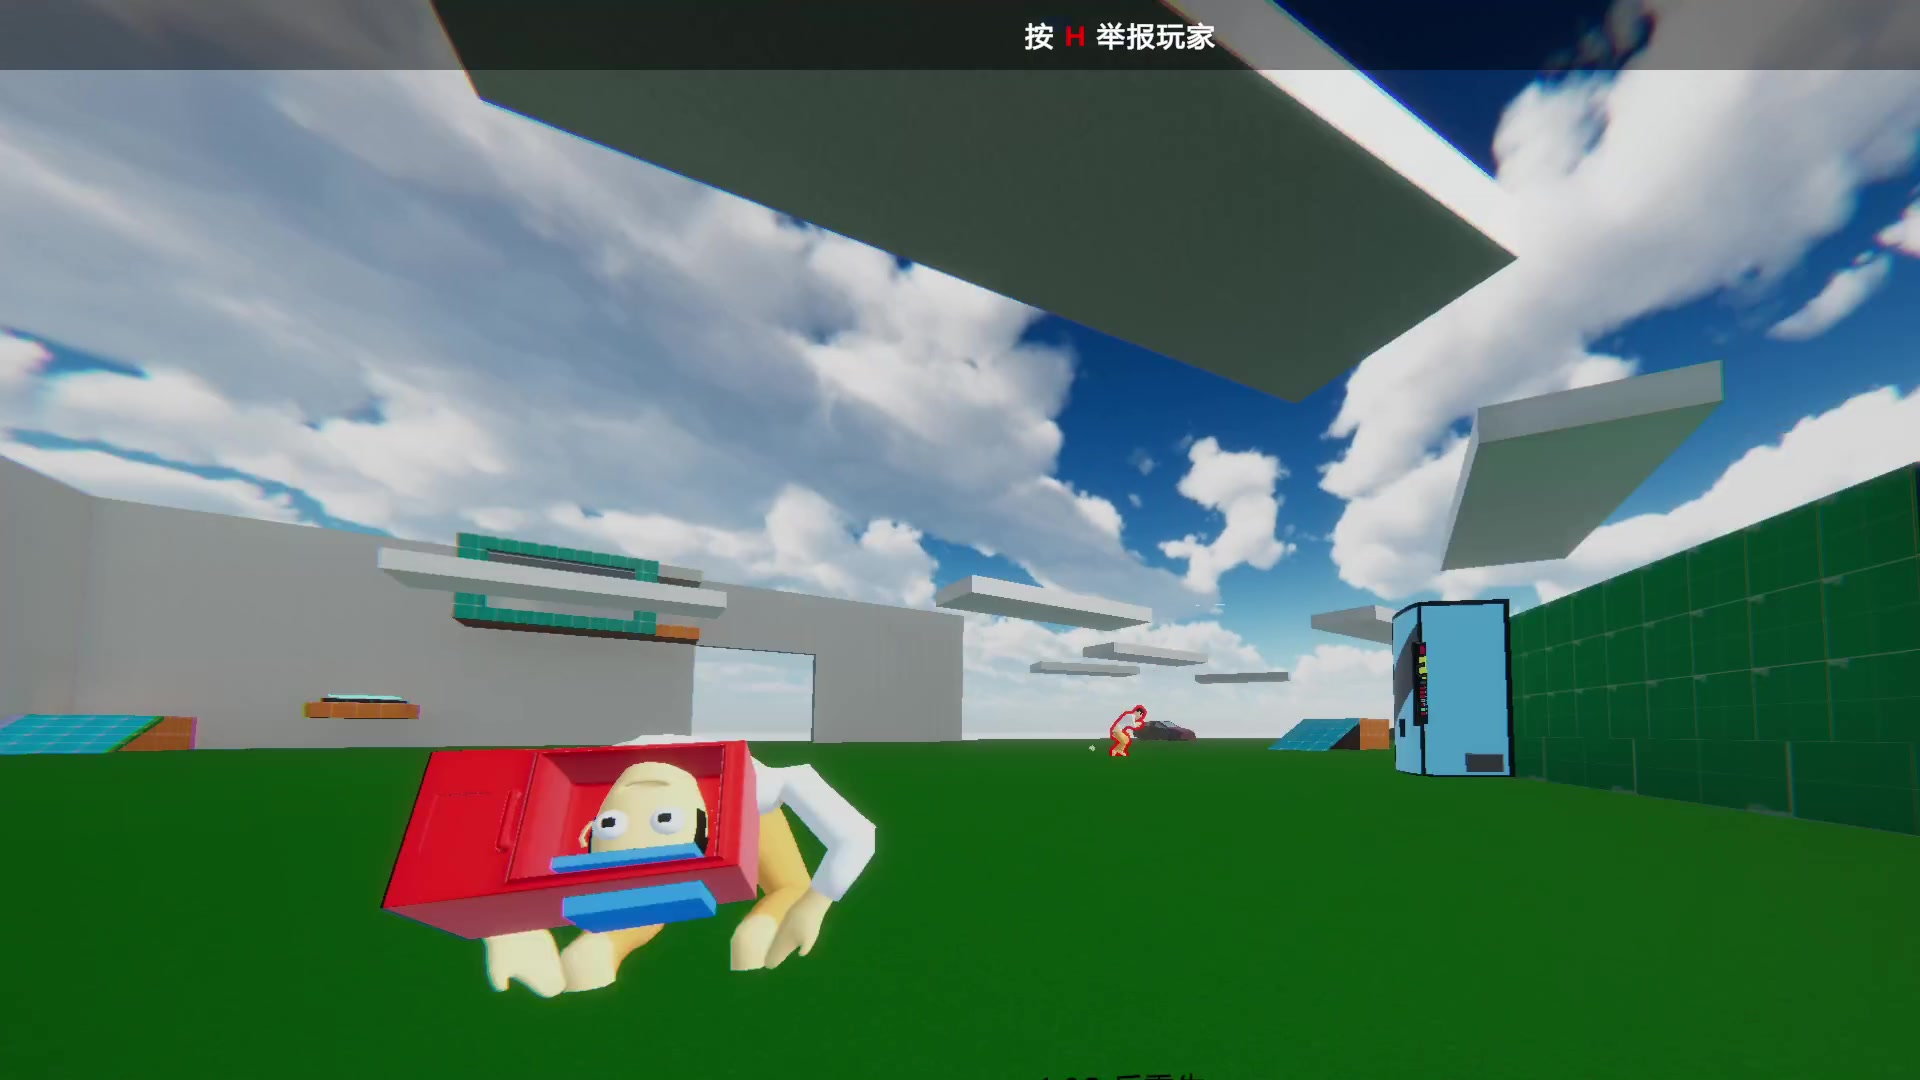human: (1113, 705, 1144, 758)
